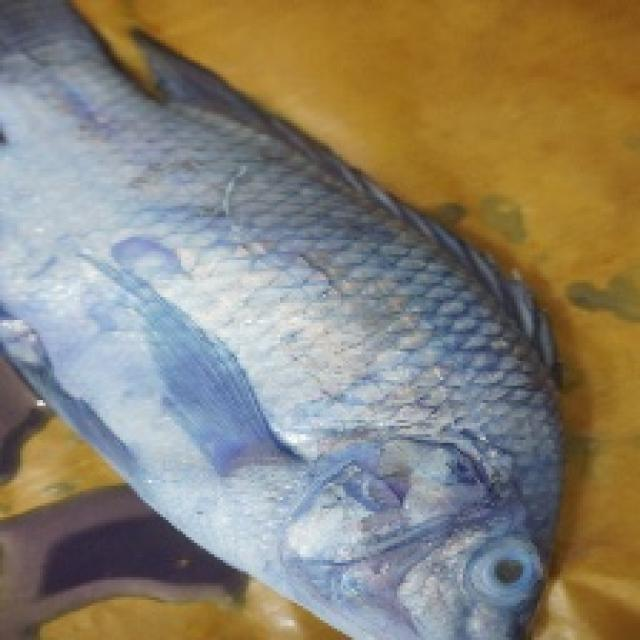Non-Fresh: (81, 180, 552, 537), (461, 527, 539, 601)
